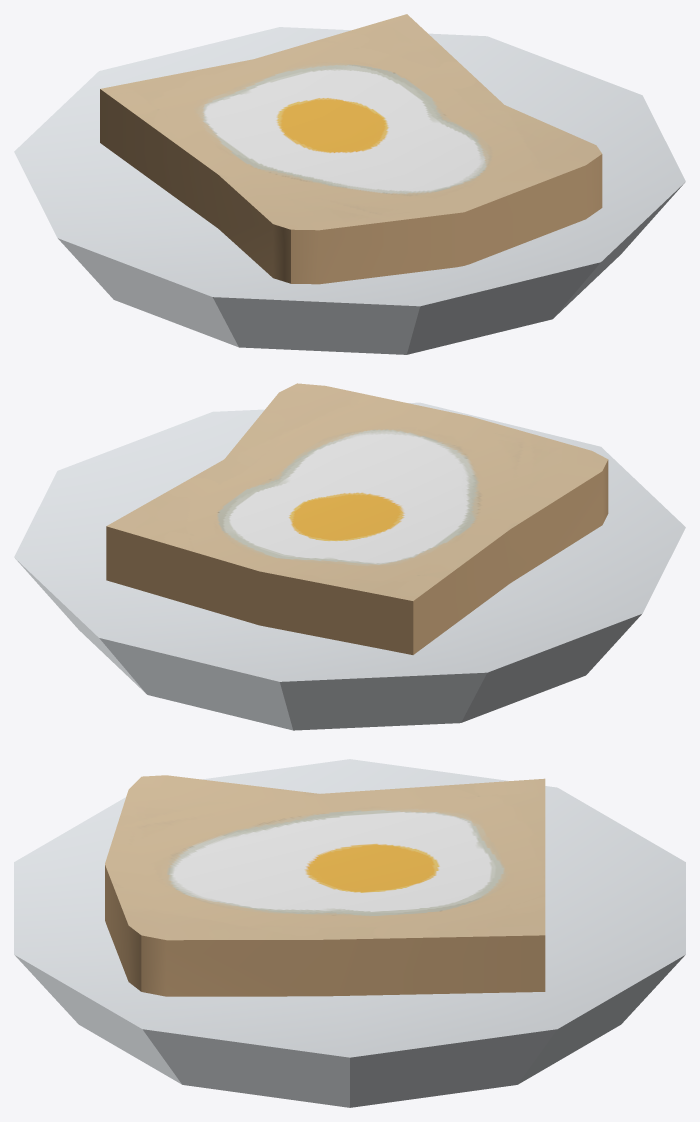
Rendered from eggyBread.fbx.
3 renders of one model, top to bottom at view 1: azimuth 30°, elevation 25°; view 2: azimuth 150°, elevation 25°; view 3: azimuth 270°, elevation 25°, orthographic. The views are drawn at different scales.
Parts seen in each view (by area): view 1: eggy bread; view 2: eggy bread; view 3: eggy bread.
Boxes of the visible parts, bbox=[...] form: eggy bread: bbox=[14, 14, 685, 354]; eggy bread: bbox=[14, 383, 685, 730]; eggy bread: bbox=[14, 759, 685, 1107].
Size of the model in its own units: 42.59 by 8.64 by 40.51.
Materials: 1 (1 with a texture image).
